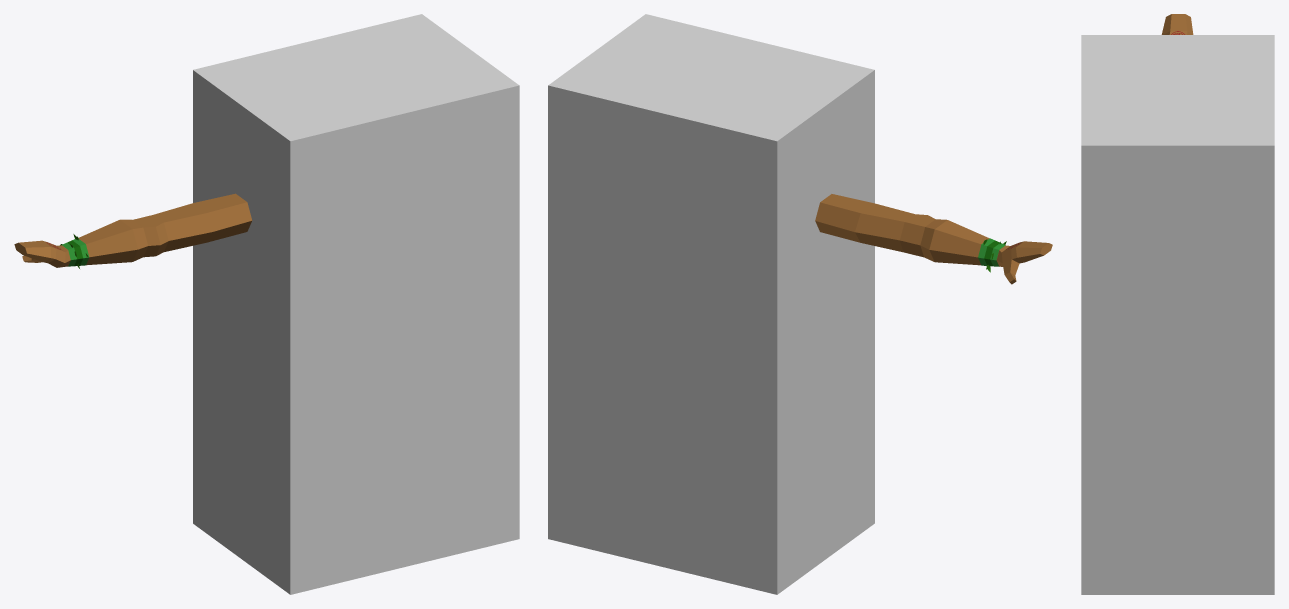
The model's file is Arm6.fbx.
3 views of the same model, side by side, from view 1: azimuth 30°, elevation 25°; view 2: azimuth 150°, elevation 25°; view 3: azimuth 270°, elevation 25° (orthographic).
Parts seen in each view (by area): view 1: Cube, Plane.008; view 2: Cube, Plane.008; view 3: Cube, Plane.008.
Boxes of the visible parts, left/top/right/bottom form: Cube: left=193, top=14, right=519, bottom=594; Plane.008: left=14, top=193, right=252, bottom=268; Cube: left=548, top=14, right=874, bottom=594; Plane.008: left=815, top=194, right=1052, bottom=284; Cube: left=1081, top=35, right=1274, bottom=594; Plane.008: left=1161, top=14, right=1193, bottom=34.
Size of the model in its own units: 983 by 945 by 368.
